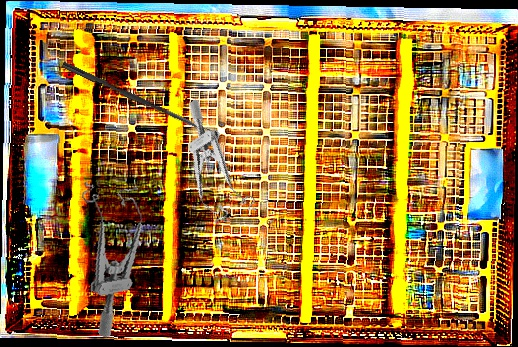Speculum: (69, 170, 165, 340), (150, 98, 268, 234)
Surgical Spoon: (61, 61, 213, 138)
